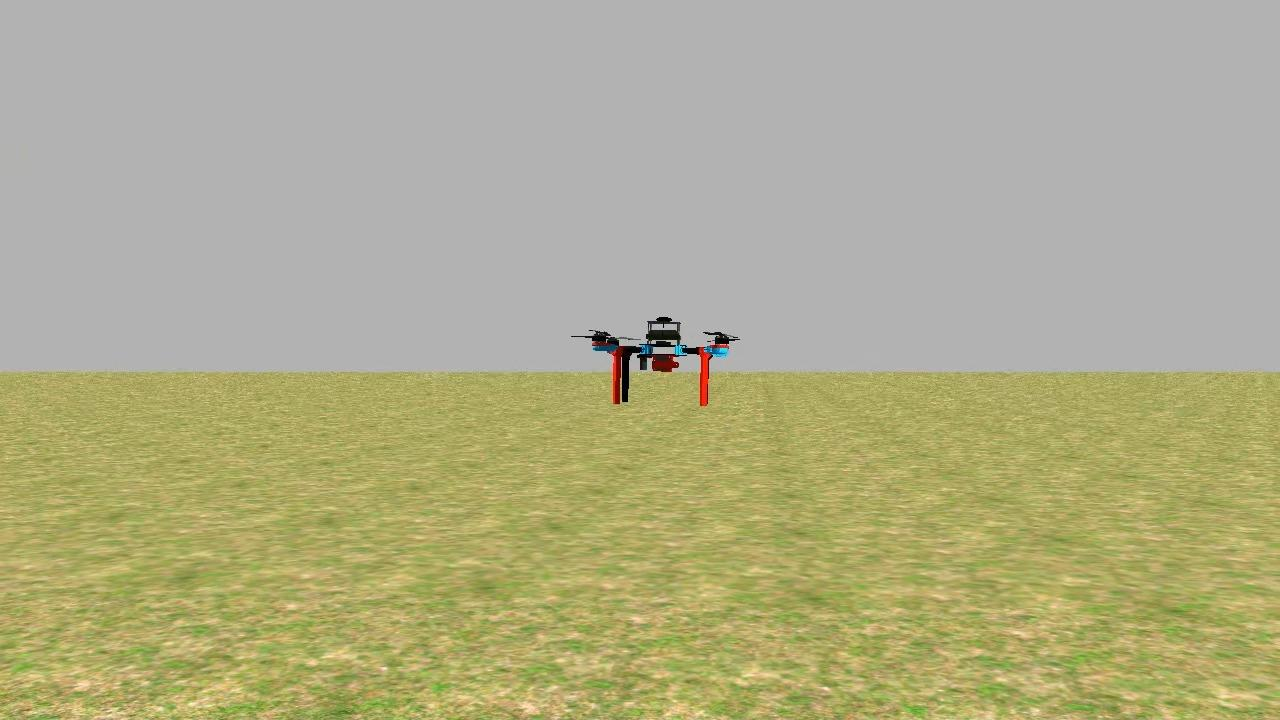UAV: (575, 294, 744, 423)
